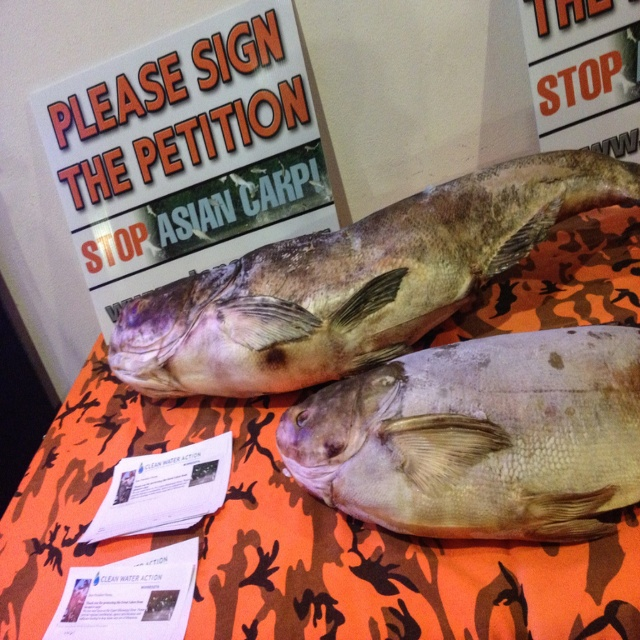Fish: (106, 143, 640, 403), (257, 316, 619, 559)
